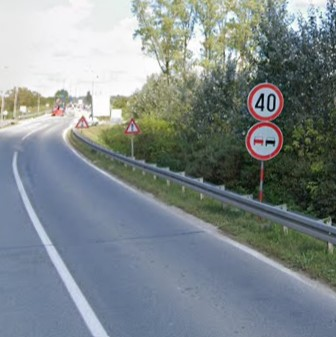Ograničenje brzine 40: (247, 83, 284, 122)
Zabrana pretjecanja: (245, 122, 283, 161)
